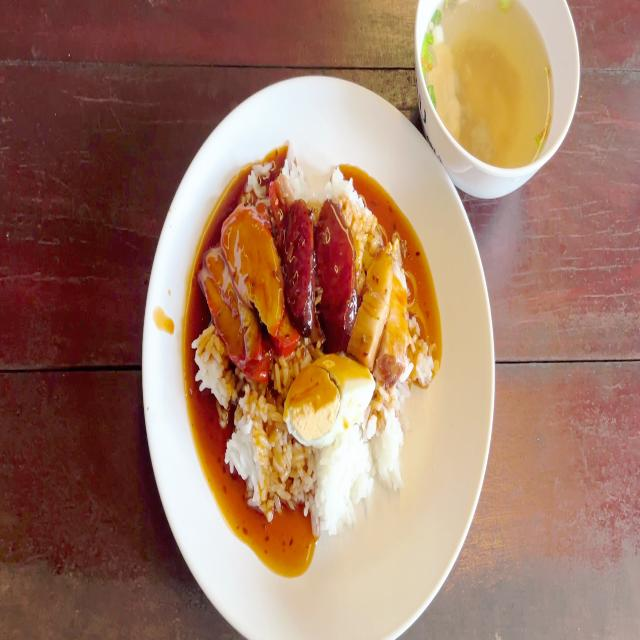boiled_egg: (294, 354, 370, 440)
chainese_sausage: (280, 201, 350, 340), (316, 203, 355, 347), (283, 202, 317, 327)
crispy_pork: (358, 232, 407, 380), (354, 243, 384, 360), (390, 247, 407, 381)
red_pork: (205, 208, 290, 368), (199, 246, 262, 372), (223, 208, 286, 325)
red_pork_and_crispy_pork: (190, 150, 436, 536)
rice: (228, 414, 290, 510), (318, 446, 377, 530), (315, 167, 367, 215), (268, 162, 308, 195)
